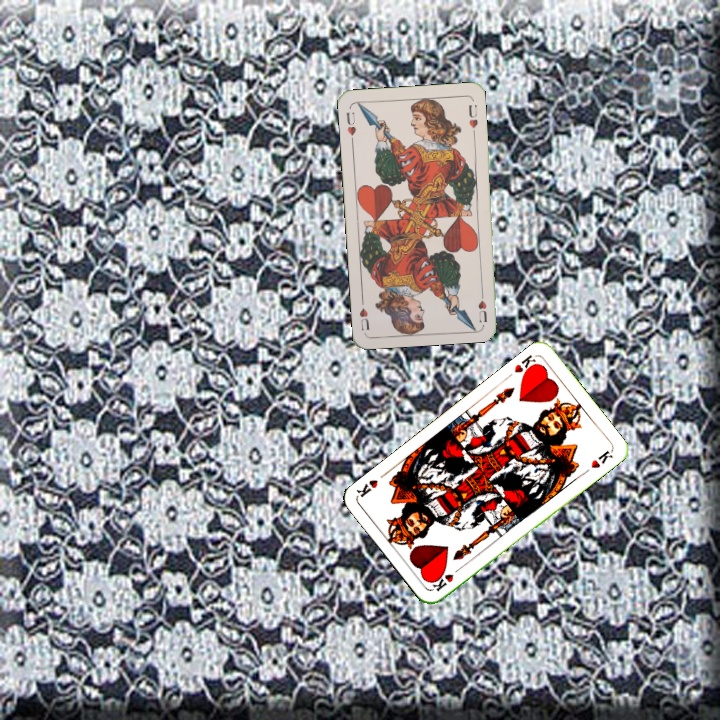HK: (429, 563, 464, 594), (510, 350, 541, 379)
HU: (342, 108, 359, 145), (474, 285, 489, 325)
